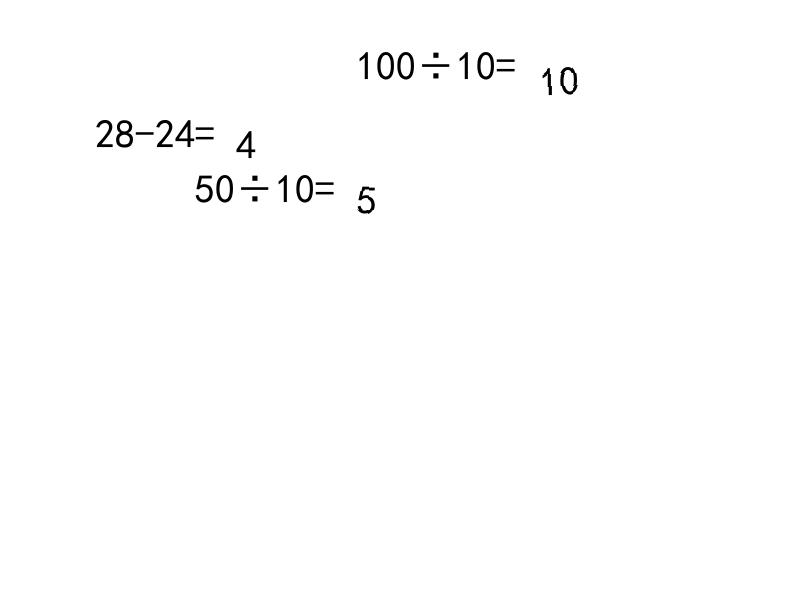-: (135, 113, 155, 142)
0: (376, 45, 396, 74), (396, 45, 416, 74), (476, 45, 496, 74), (546, 45, 566, 74), (215, 168, 235, 197), (295, 168, 315, 197)
1: (356, 45, 376, 74), (456, 45, 476, 74), (526, 45, 546, 74), (275, 168, 295, 197)
2: (95, 113, 115, 142), (155, 113, 175, 142)
4: (175, 113, 195, 142), (225, 113, 245, 142)
5: (195, 168, 215, 197), (345, 168, 365, 197)
8: (115, 113, 135, 142)
=: (496, 45, 516, 74), (195, 113, 215, 142), (315, 168, 335, 197)
÷: (416, 45, 456, 74), (235, 168, 275, 197)
